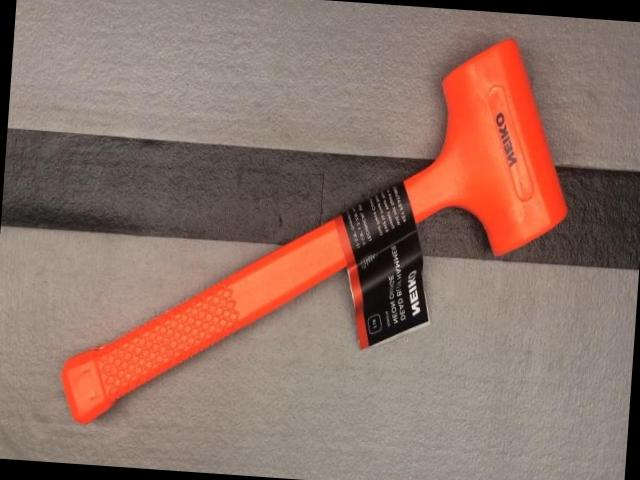hammer: (56, 6, 580, 460)
